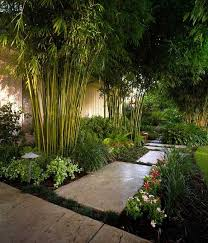bamboo: (3, 1, 208, 84), (35, 85, 84, 153), (101, 87, 145, 148)
